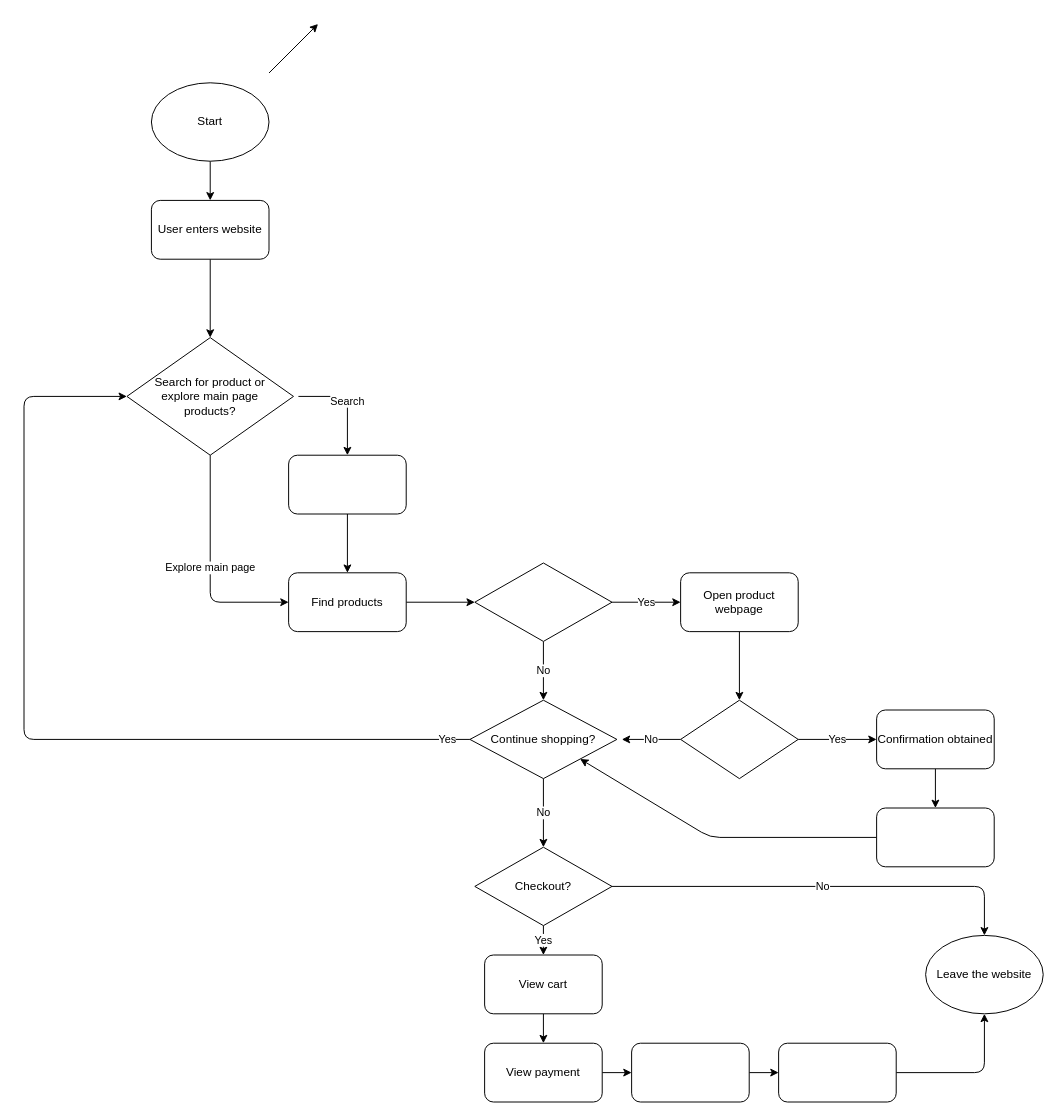
The diagram is 1060 pixels wide and 1119 high, and some of its shapes have lost their labels. The centre of each missing label's shape, as x and y in pixels:
Add to cart?: point 739,739
Input payment info: point 690,1072
Order confirmation screen and email: point 837,1072
Product added to cart: point 935,837
Receive search query: point 347,484
View specific product?: point 543,601
